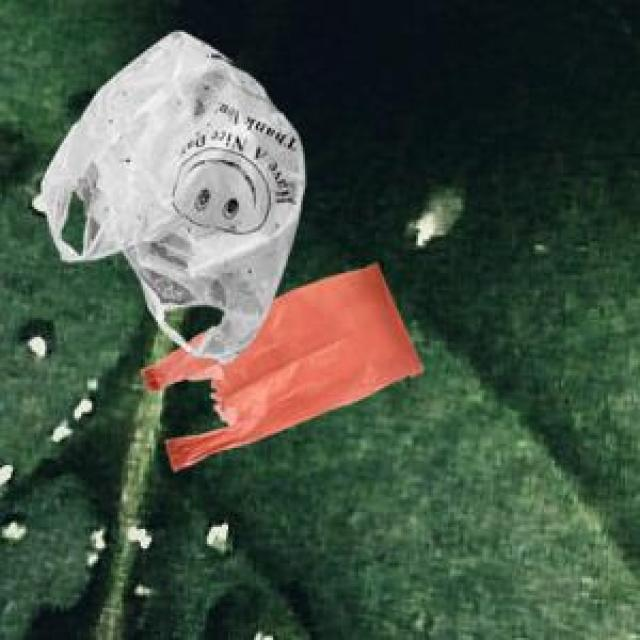plastic: (18, 14, 488, 492)
